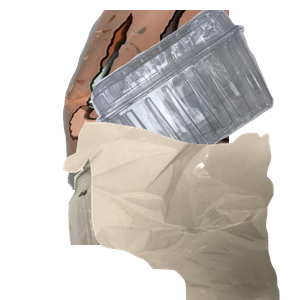glass: (61, 120, 287, 300)
metal: (60, 10, 300, 190)
plastic: (88, 10, 300, 180)
trash: (61, 120, 300, 300)
